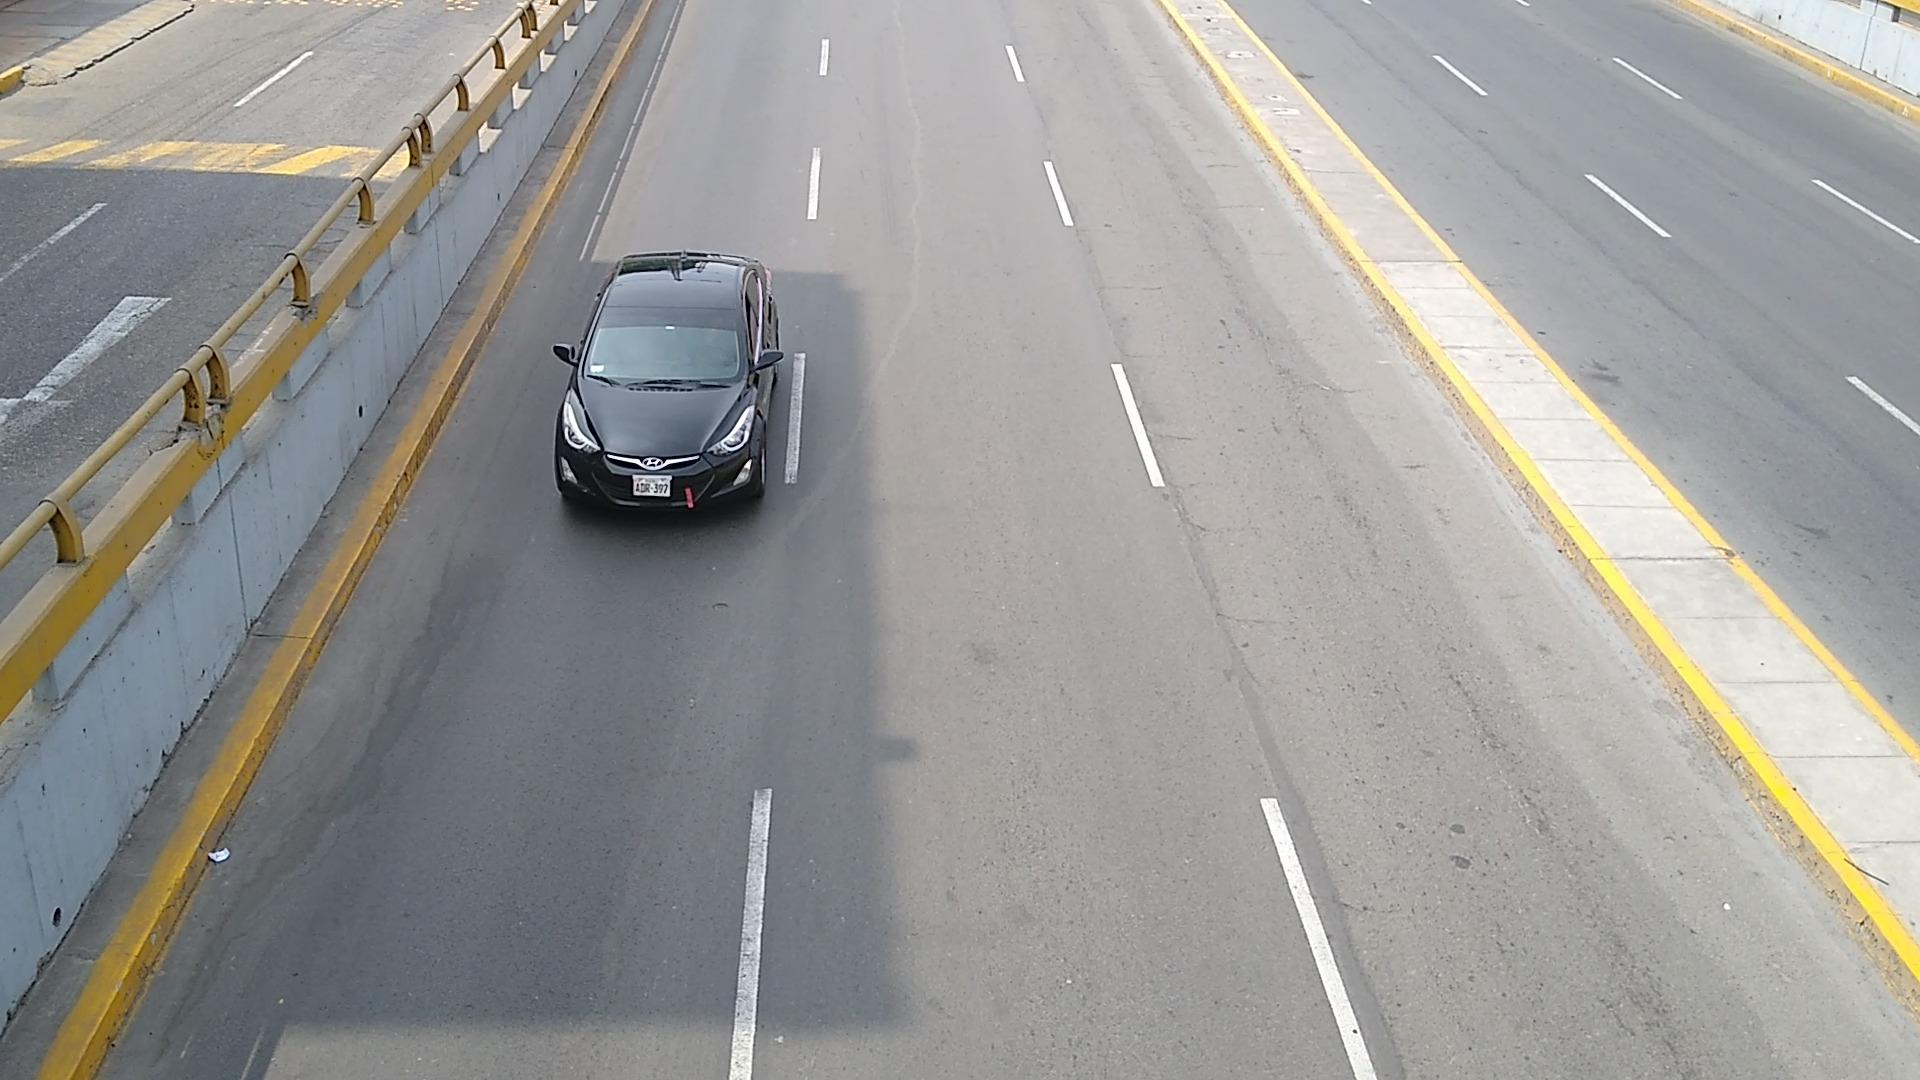car: (547, 248, 783, 512)
